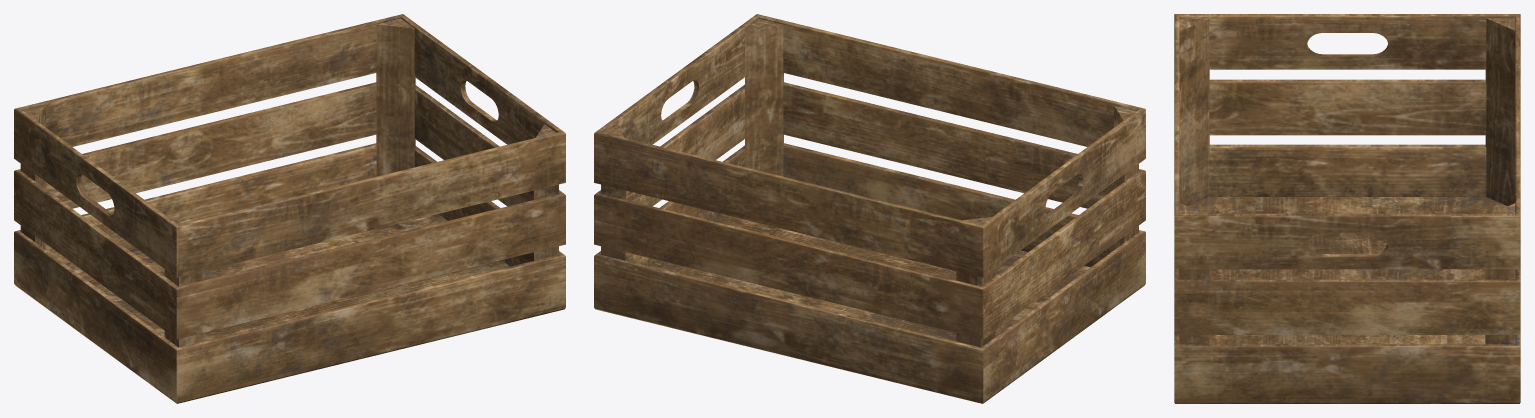
Rendered from wood_crate.dae.
3 renders of one model, left to right at view 1: azimuth 30°, elevation 25°; view 2: azimuth 150°, elevation 25°; view 3: azimuth 270°, elevation 25°, orthographic. The views are drawn at different scales.
Visible parts, largest first — view 1: Cube; view 2: Cube; view 3: Cube.
Part boxes in pixels (box(x1,y1,x2,y2)): Cube: box(14, 14, 565, 403); Cube: box(594, 14, 1145, 403); Cube: box(1174, 14, 1520, 403).
Bounding box in the file's own units: 0.5527 × 0.4001 × 0.2415.
